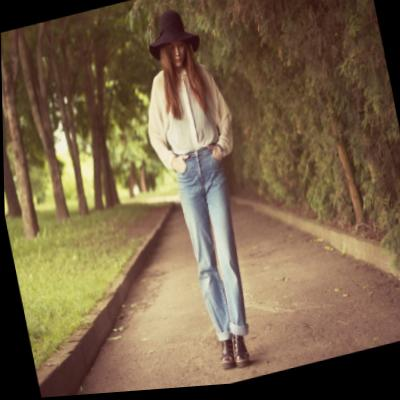sad: (165, 39, 187, 72)
